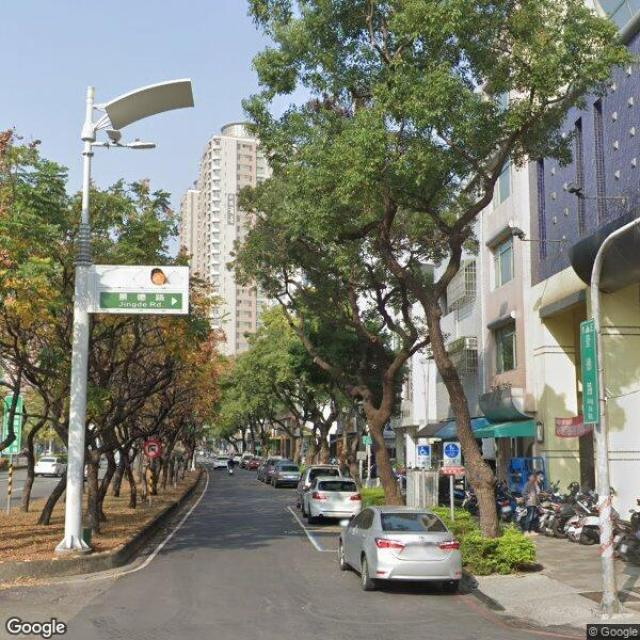Legalparking: (238, 444, 481, 626), (503, 466, 640, 582)
